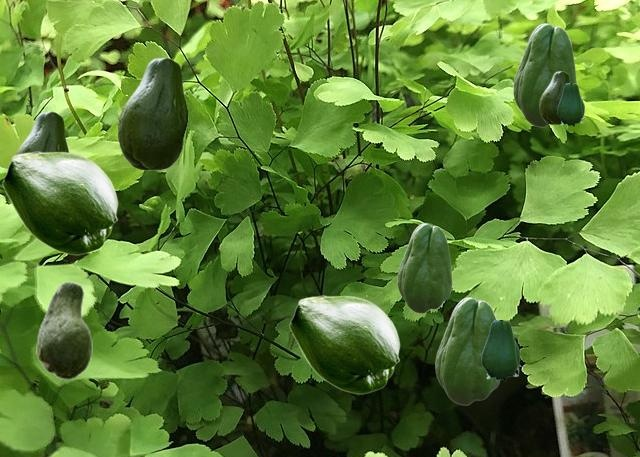sayote: (2, 151, 117, 254), (289, 295, 399, 393), (117, 57, 187, 169), (435, 297, 500, 404), (513, 23, 576, 126), (36, 281, 91, 379), (397, 223, 451, 312), (481, 320, 520, 381), (14, 111, 68, 153), (539, 71, 570, 123), (557, 83, 584, 126)
